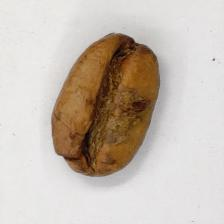NG: (81, 34, 158, 165)
